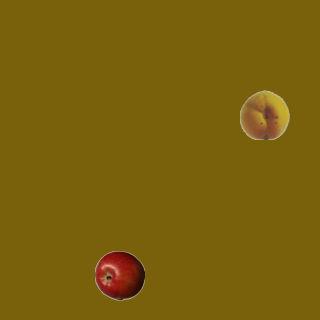Apple Braeburn: (94, 250, 144, 300)
Peach 2: (239, 89, 289, 139)
